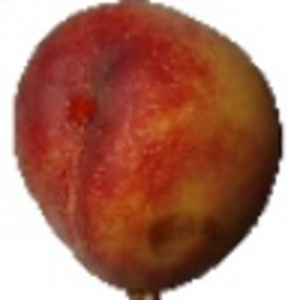pêssego: (1, 1, 285, 300)
